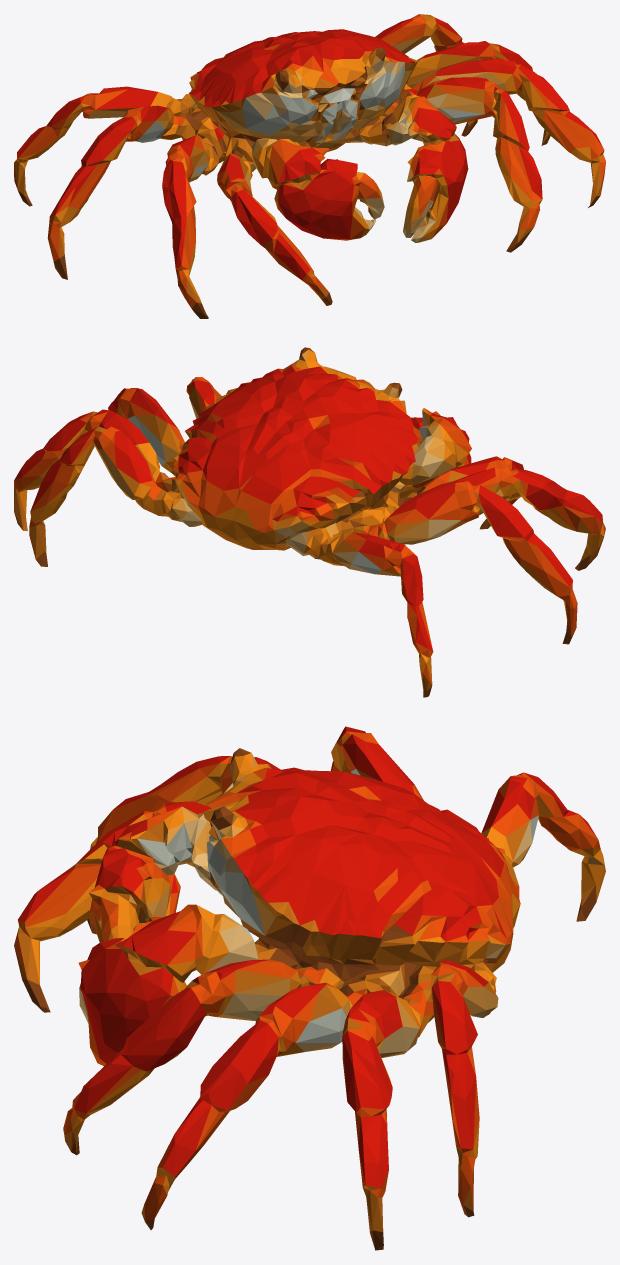
Rendered from crab.glb.
The picture shows the model from 3 angles, top to bottom: view 1: azimuth 30°, elevation 25°; view 2: azimuth 150°, elevation 25°; view 3: azimuth 270°, elevation 25°; orthographic projection. The views are drawn at different scales.
Visible parts, largest first — view 1: low-poly-crab; view 2: low-poly-crab; view 3: low-poly-crab.
Boxes of the visible parts, <box> form: low-poly-crab: <box>14,14,605,318</box>; low-poly-crab: <box>14,347,605,697</box>; low-poly-crab: <box>14,726,605,1250</box>.
Size of the model in its own units: 0.1998 by 0.0692 by 0.1304.
Materials: 1 (1 with a texture image).
